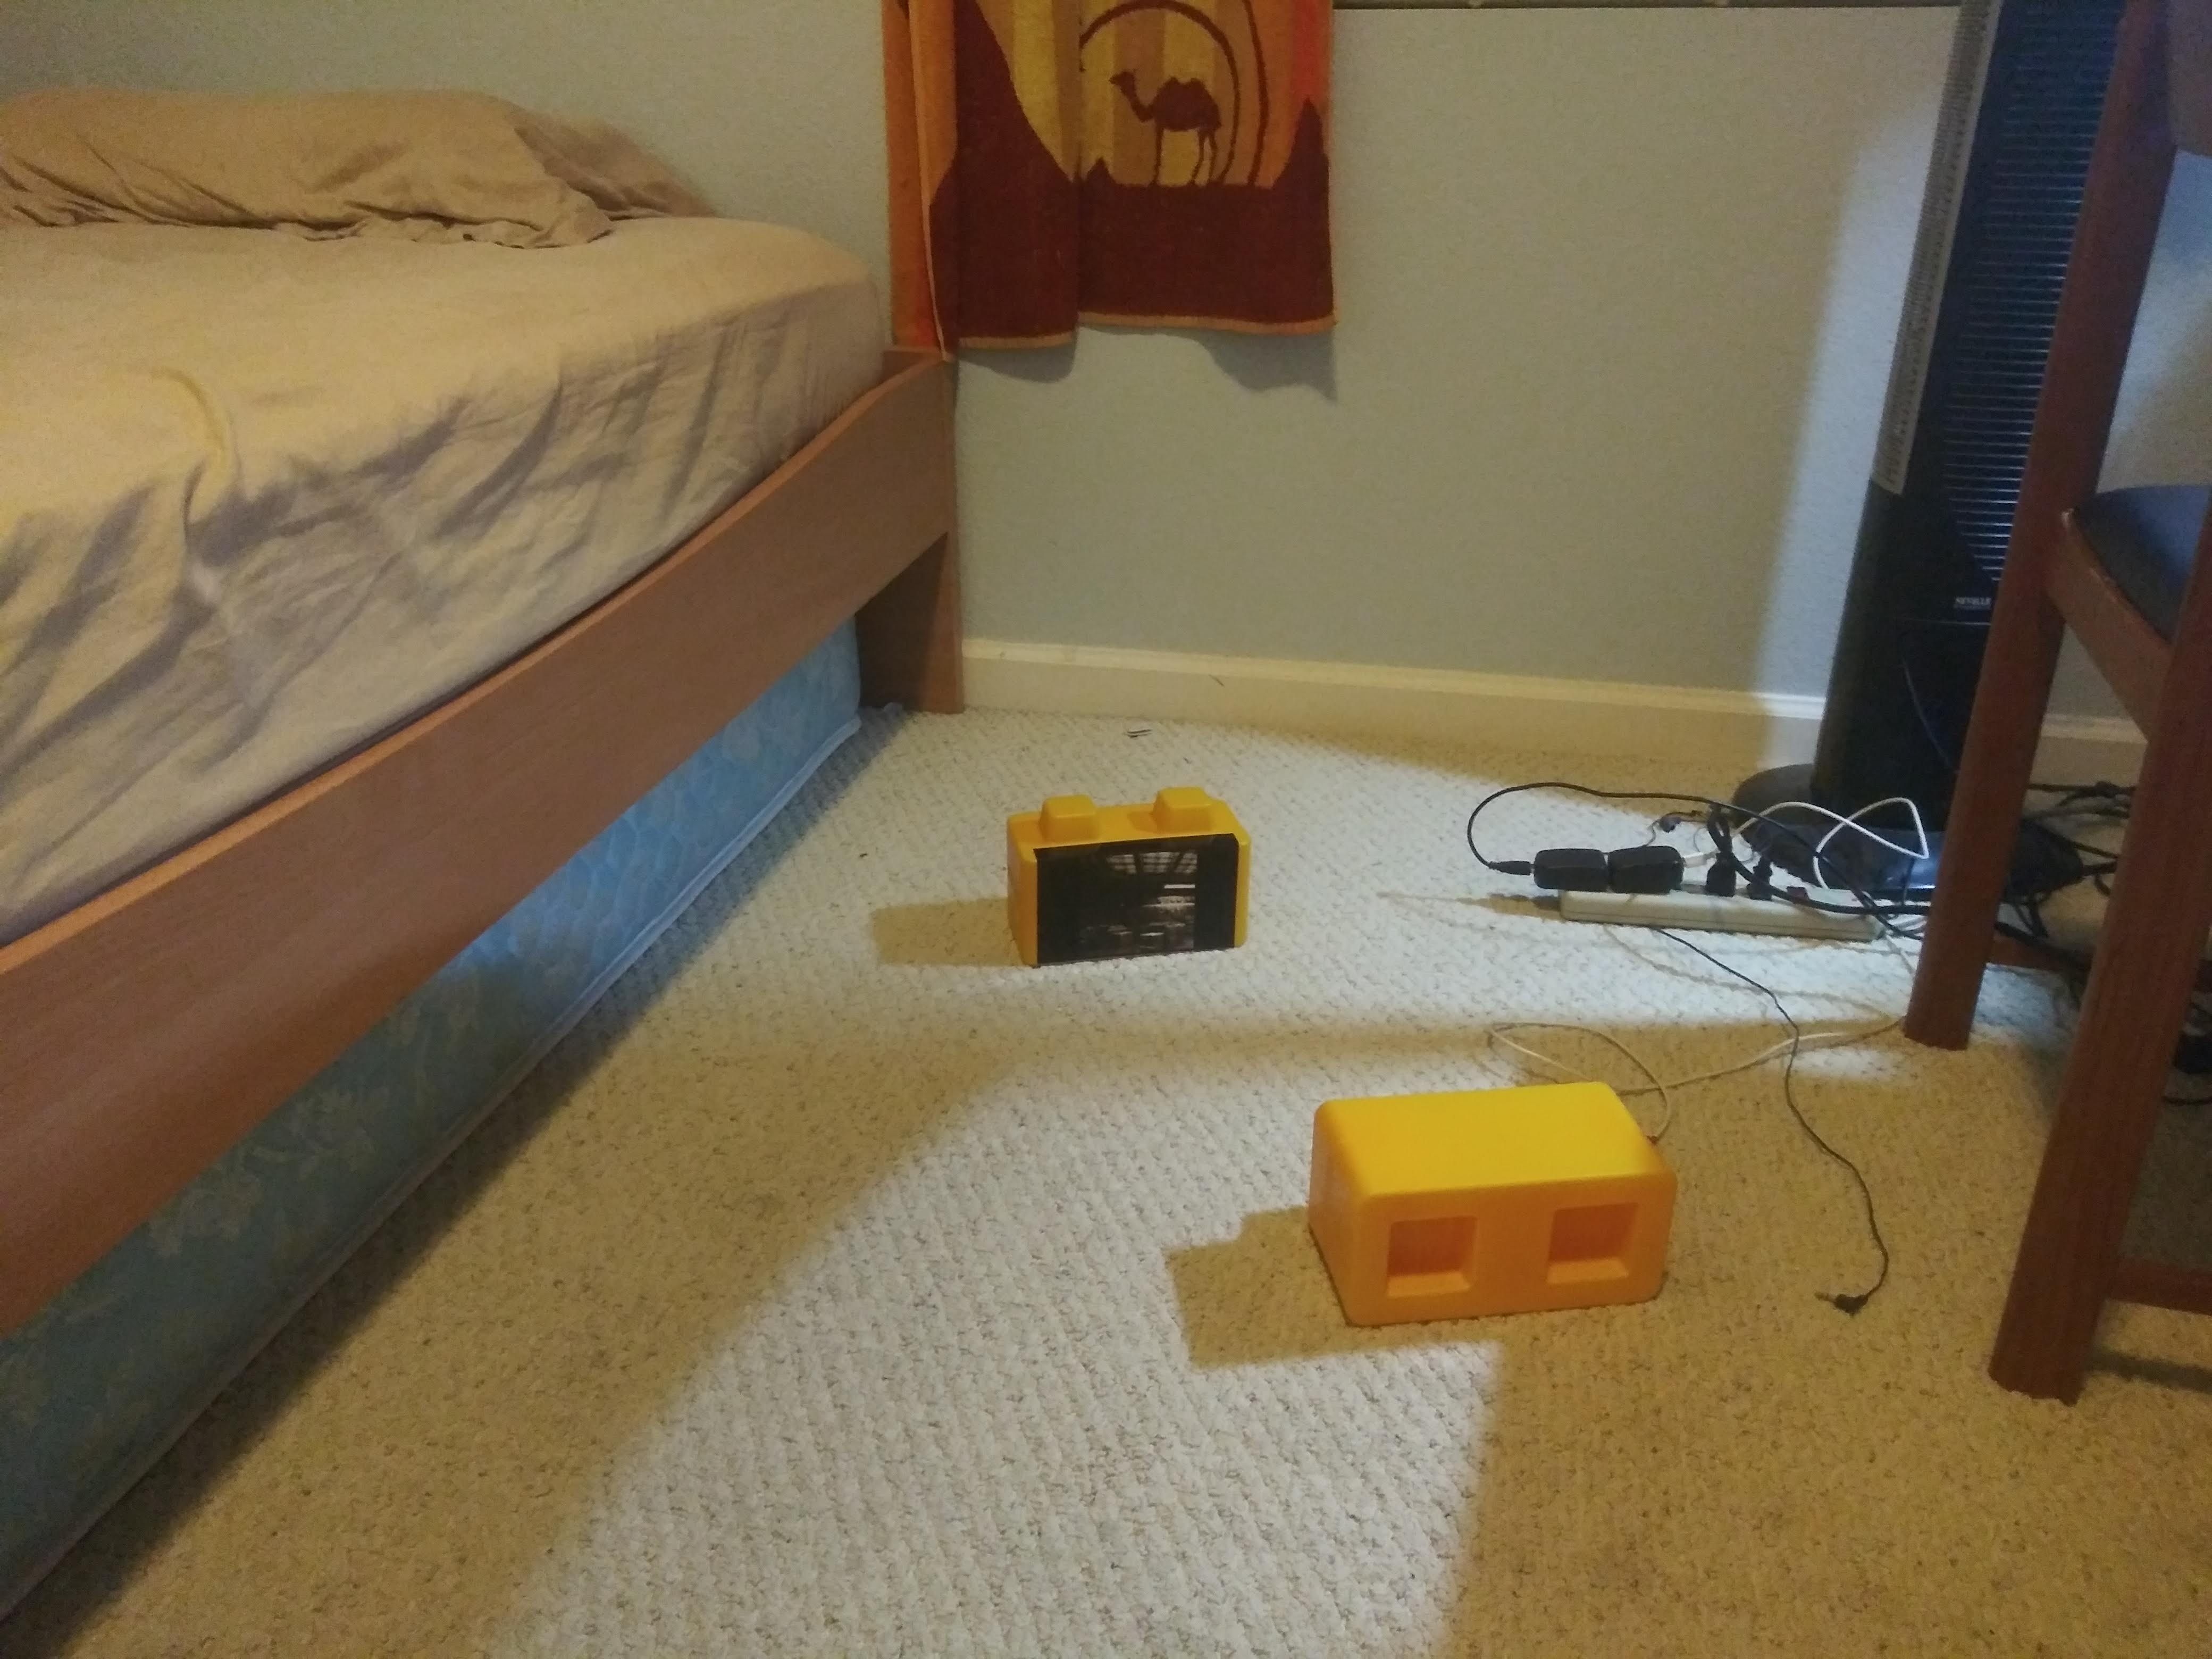skystone: (1012, 814, 1259, 967)
stone: (1296, 1091, 1676, 1317)
